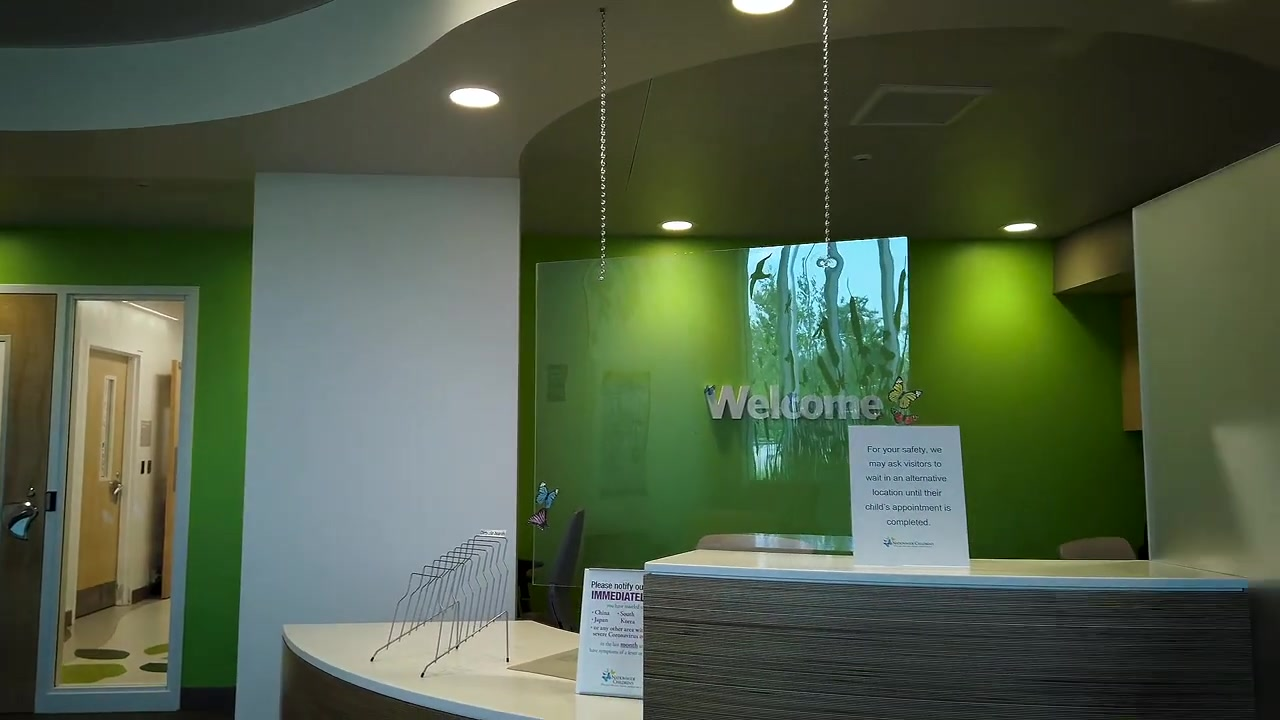counter: (283, 566, 1279, 720)
countertop: (283, 620, 643, 720), (645, 549, 1250, 591)
door_handle: (1, 501, 38, 541), (113, 484, 122, 494)
